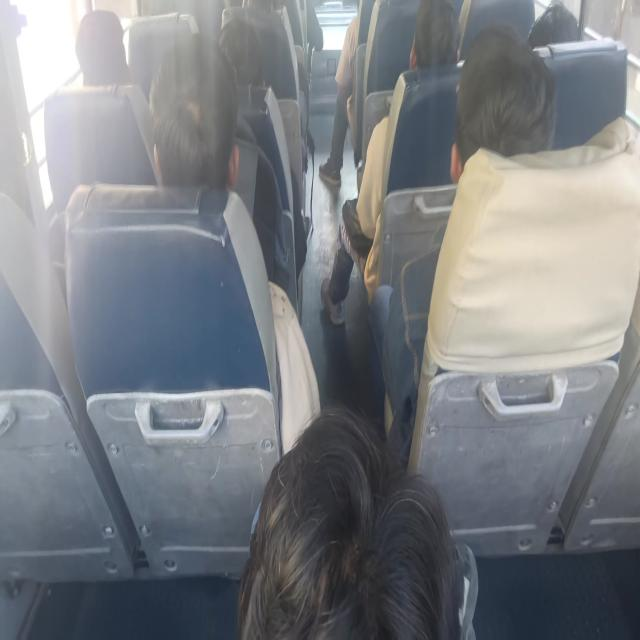person: (225, 410, 480, 640), (144, 41, 252, 208), (460, 56, 547, 192), (71, 12, 137, 89), (396, 3, 463, 78), (209, 18, 273, 90), (0, 82, 34, 212), (530, 3, 582, 59)
